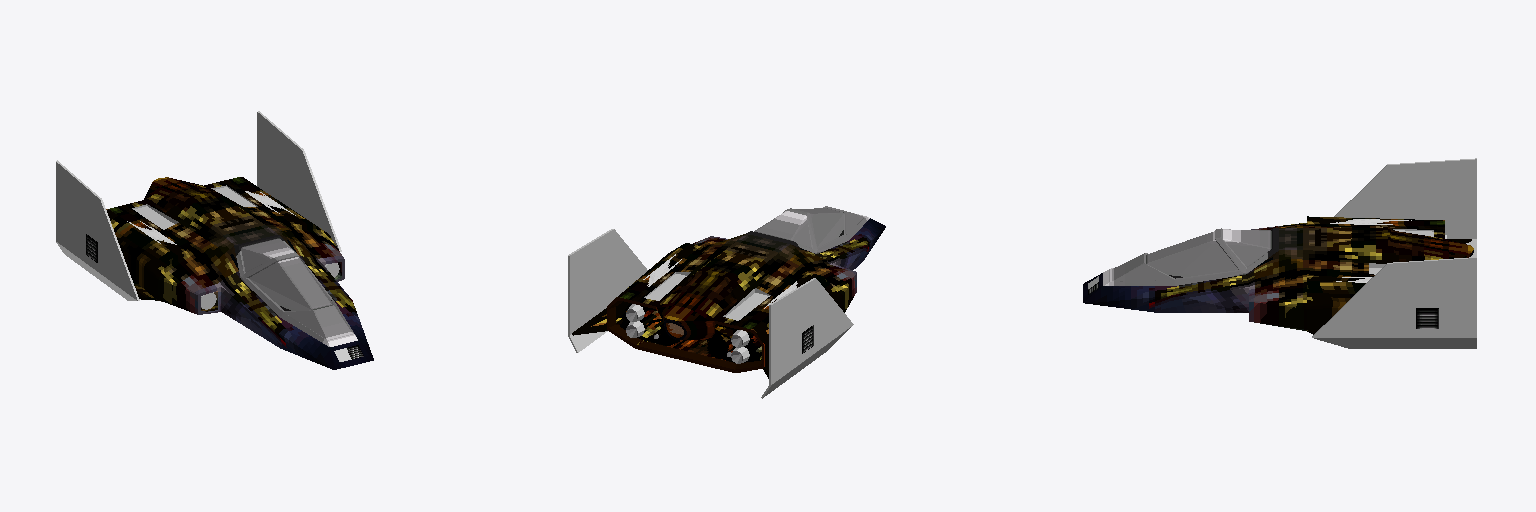
3 views of the same model, side by side, from view 1: azimuth 30°, elevation 25°; view 2: azimuth 150°, elevation 25°; view 3: azimuth 270°, elevation 25° (orthographic).
Visible parts, largest first — view 1: 07_bluefalcon_02a; view 2: 07_bluefalcon_02a; view 3: 07_bluefalcon_02a.
Part boxes in pixels (bbox=[...]): 07_bluefalcon_02a: bbox=[56, 111, 373, 369]; 07_bluefalcon_02a: bbox=[568, 206, 885, 398]; 07_bluefalcon_02a: bbox=[1083, 158, 1476, 348].
Bounding box in the file's own units: 2.52 × 1.12 × 4.2.
Materials: 19 (5 with a texture image).